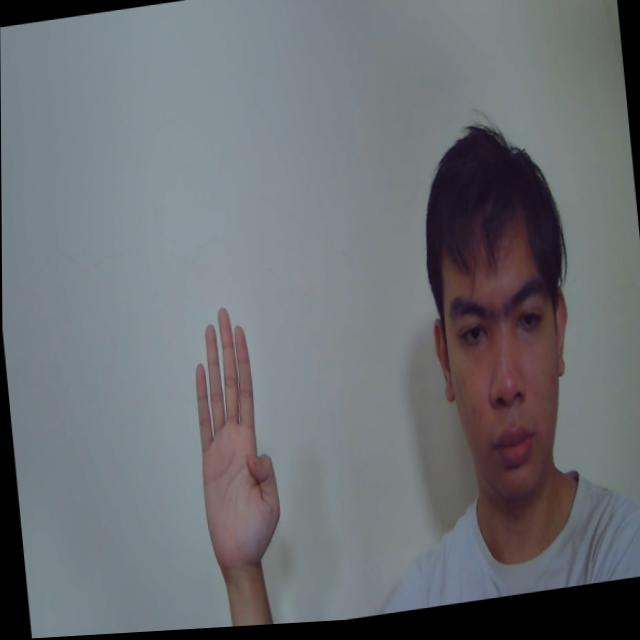B: (186, 300, 285, 572)
